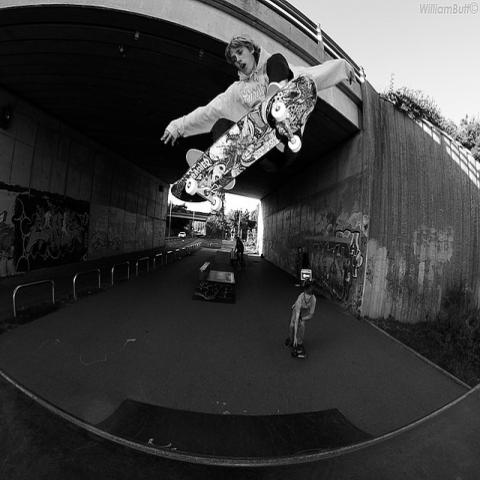car: (178, 232, 187, 238)
